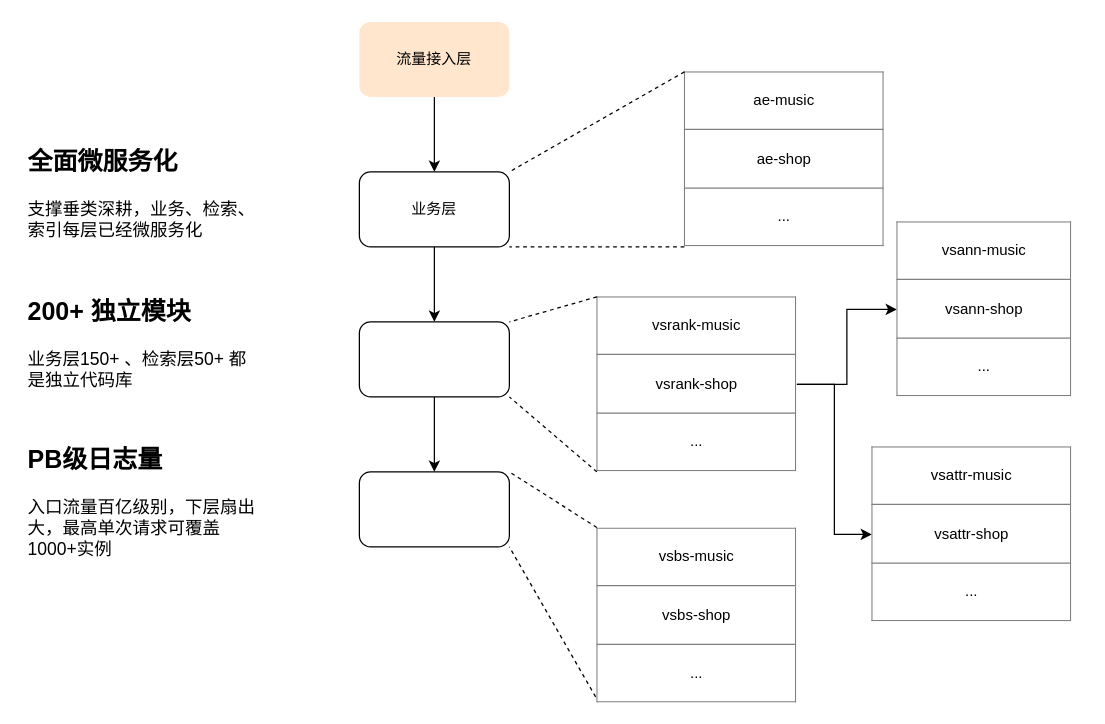
Image size: 1105x724. Some labels were removed from this diagram. The shapes that lost their labels are listed below. From the top down, each one's centre as x and y in pixels, then its label:
At point 433,359: "检索层".
At point 433,509: "索引层".
